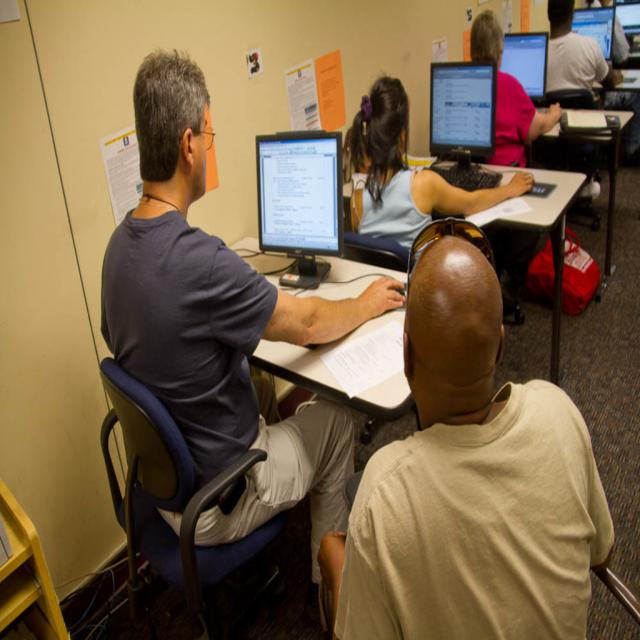chair: (98, 358, 290, 633), (585, 565, 640, 637)
desk: (183, 232, 453, 639)
keyboard: (322, 314, 407, 398)
laptop: (500, 30, 549, 101)
person: (100, 42, 404, 609), (331, 221, 616, 634), (344, 72, 537, 252), (468, 8, 562, 167), (546, 0, 612, 96)
tv: (255, 130, 342, 258), (429, 61, 497, 160)
